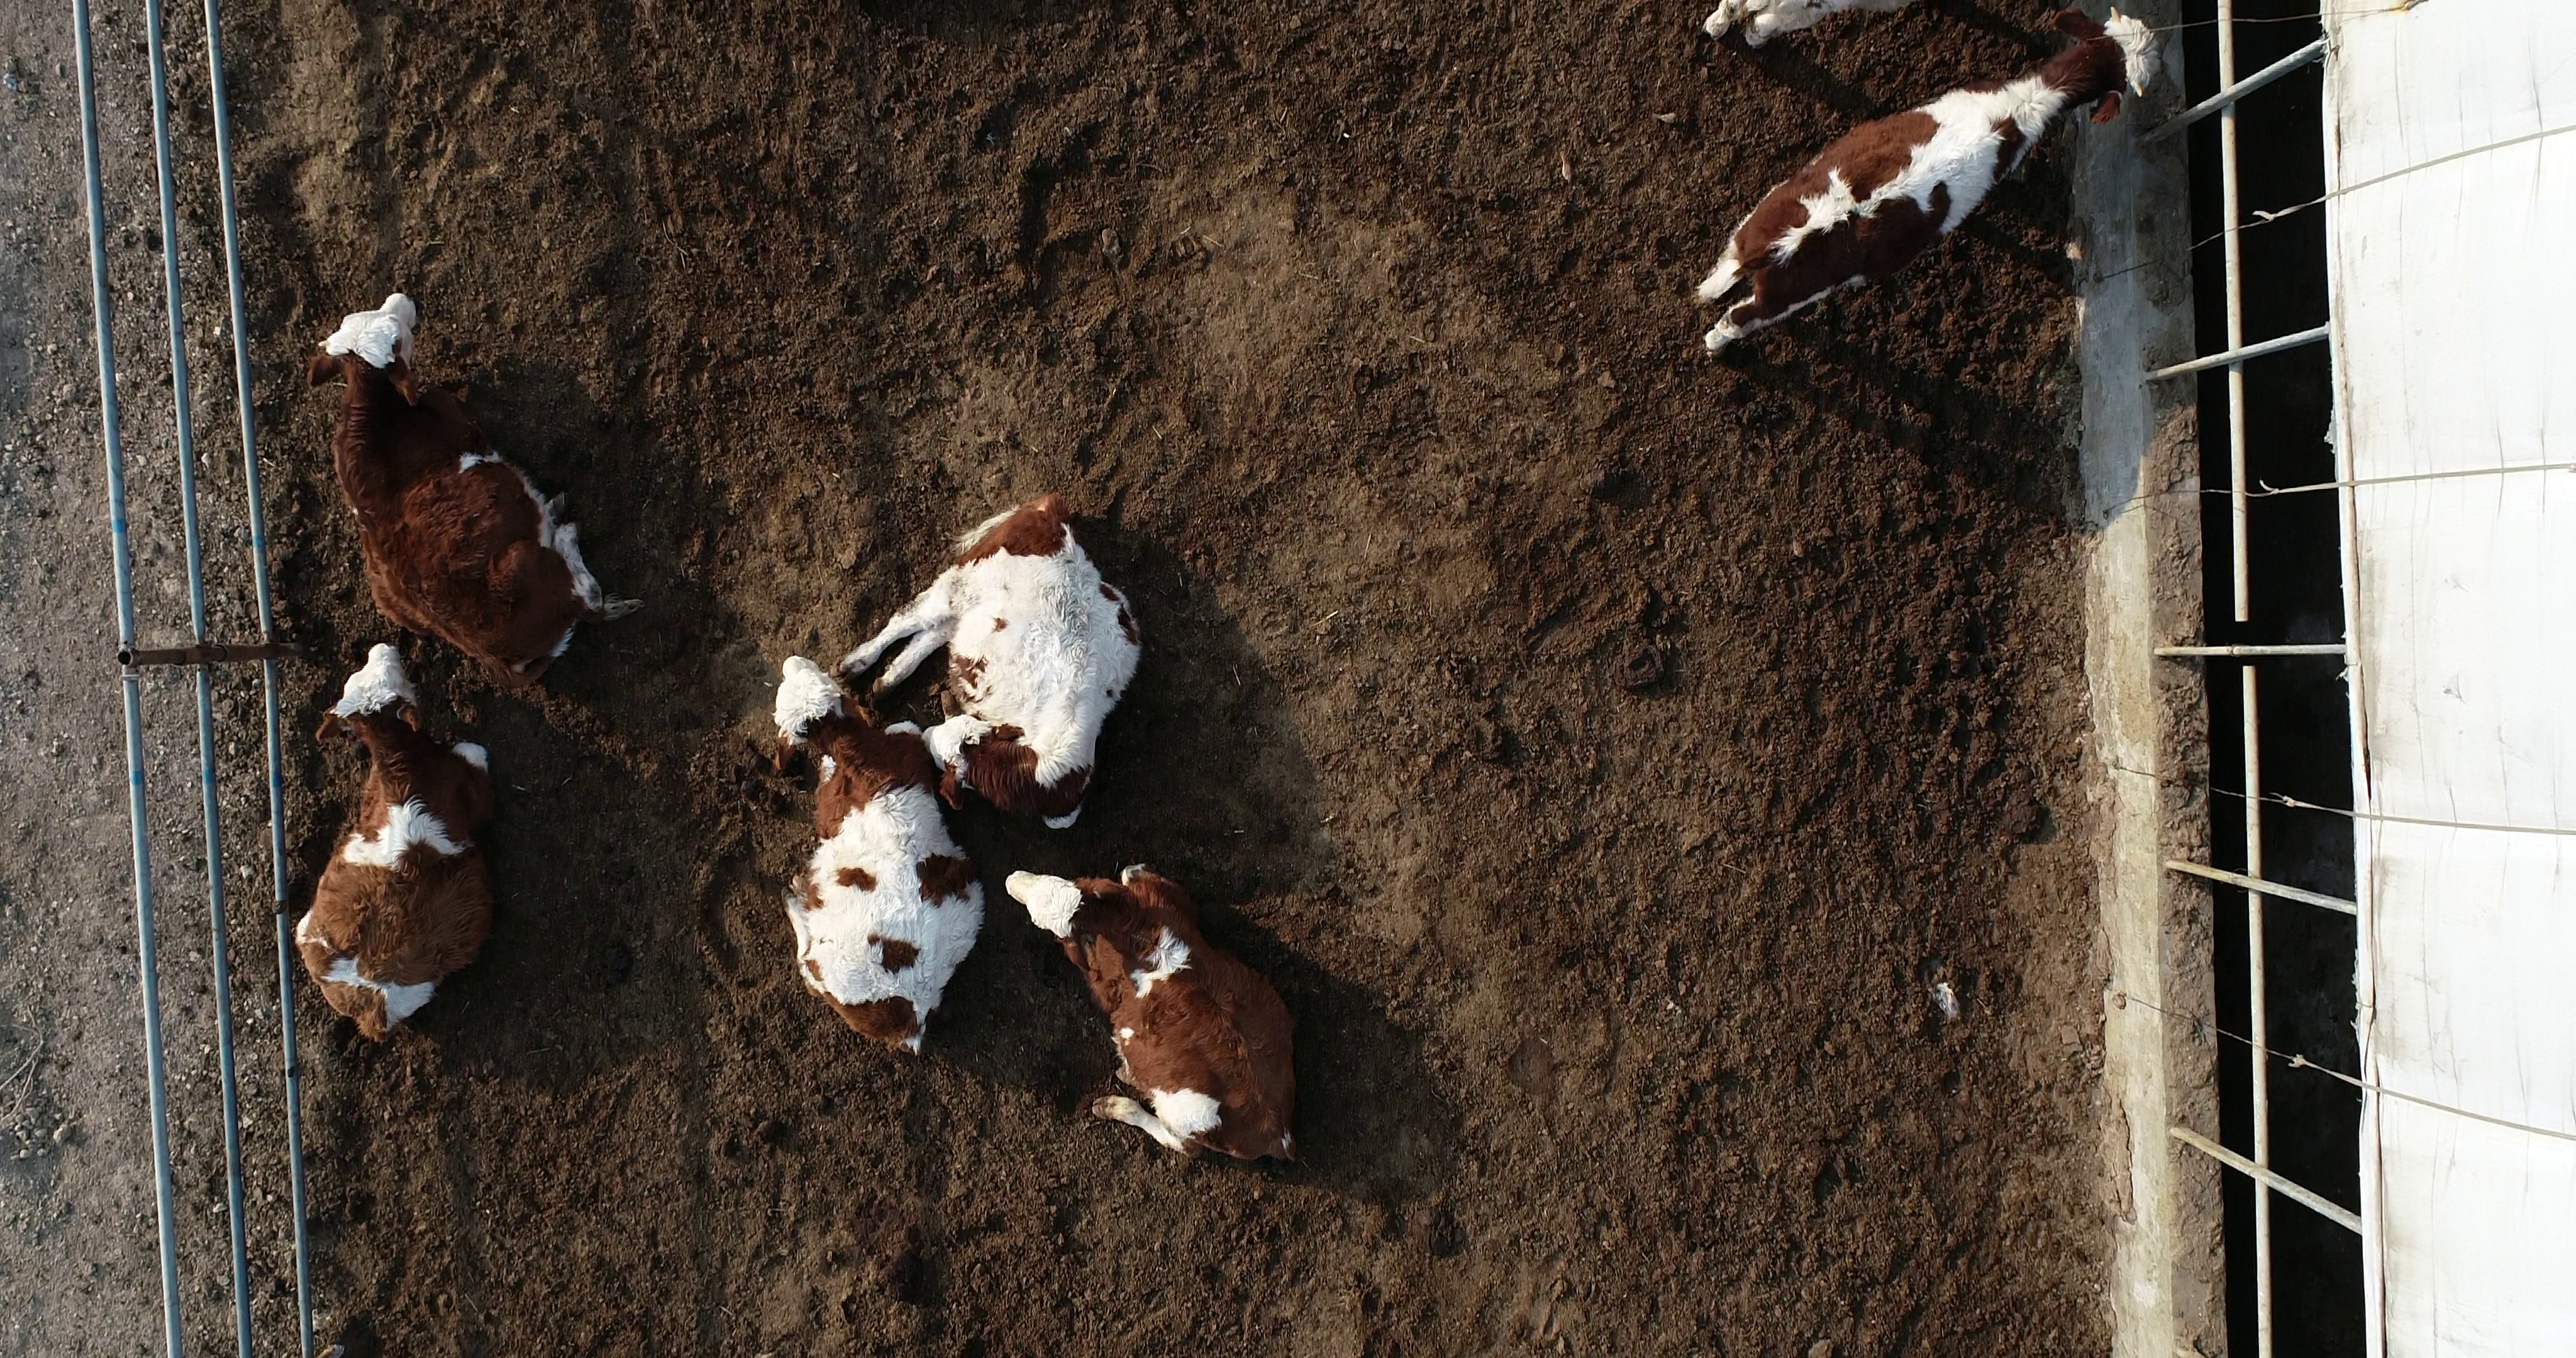cattle: (1682, 5, 2165, 368), (302, 288, 651, 693), (826, 484, 1148, 837), (1002, 857, 1307, 1174), (768, 653, 995, 1063), (288, 639, 501, 1050)
